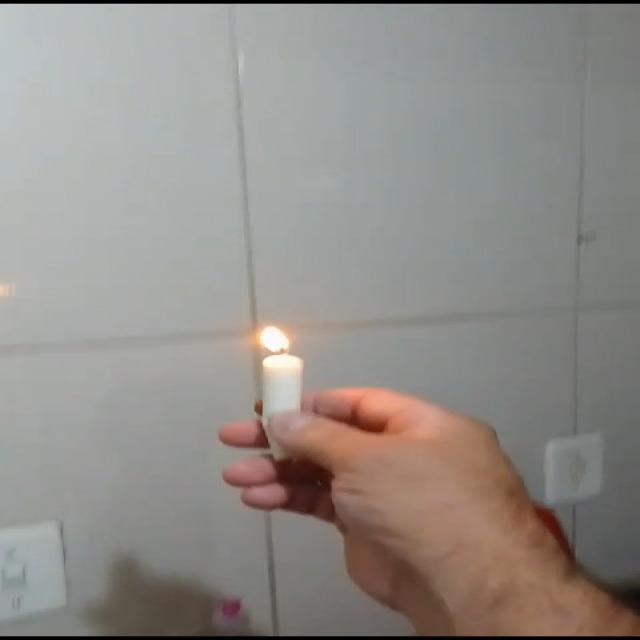fogo-ypXI: (254, 324, 294, 354)
